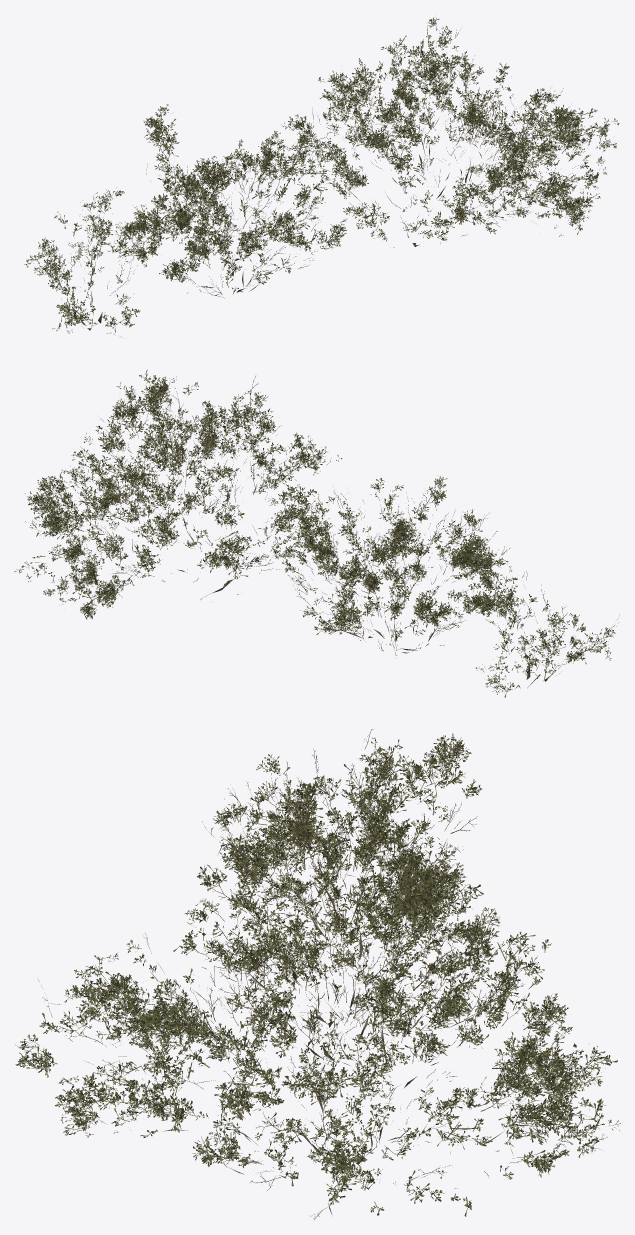
File: searsia_burchellii.glb
3 views of the same model, one above another, from view 1: azimuth 30°, elevation 25°; view 2: azimuth 150°, elevation 25°; view 3: azimuth 270°, elevation 25° (orthographic). The views are drawn at different scales.
Visible parts, largest first — view 1: model; view 2: model; view 3: model.
Part boxes in pixels (x1,y1,x2,y2): model: (24,17,619,337); model: (14,369,619,697); model: (15,729,620,1220).
Bounding box in the file's own units: 8.21 × 3.18 × 5.02.
3 materials, 3 textured.
